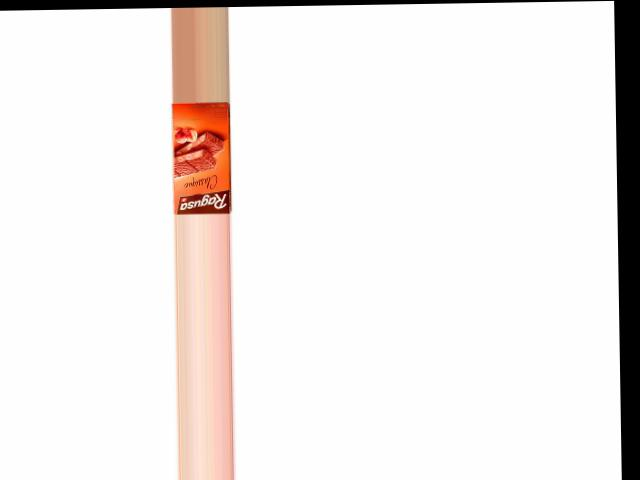chocolate: (165, 101, 234, 213)
